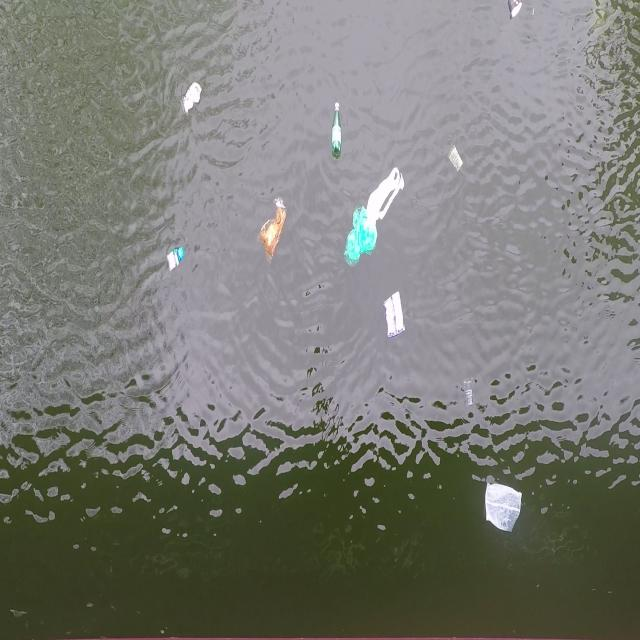Autre plastique: (164, 246, 184, 275), (446, 144, 463, 178), (462, 378, 474, 412)
Bouteille plastique: (329, 100, 344, 161)
Sac plastique: (338, 159, 411, 276), (258, 198, 287, 258)
